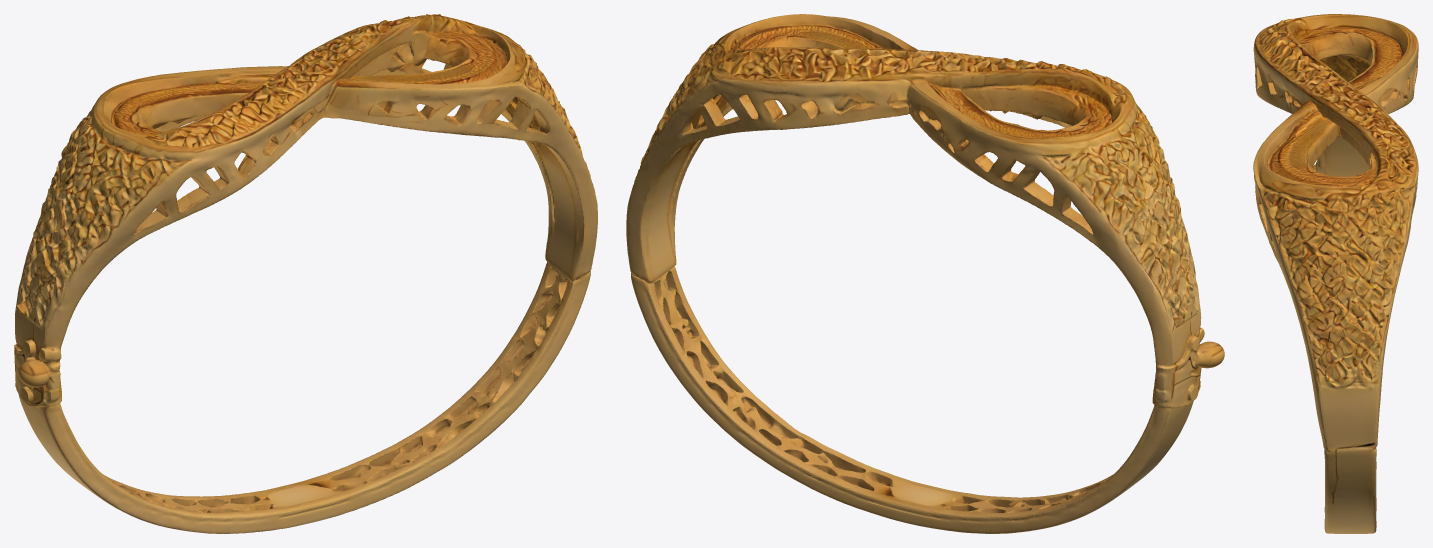
The model's file is gold-infinity-bangle.glb.
The picture shows the model from 3 angles, left to right: view 1: azimuth 30°, elevation 25°; view 2: azimuth 150°, elevation 25°; view 3: azimuth 270°, elevation 25°; orthographic projection. The views are drawn at different scales.
Visible parts, largest first — view 1: model; view 2: model; view 3: model.
Boxes of the visible parts, left/top/right/bottom form: model: left=14, top=14, right=597, bottom=533; model: left=626, top=14, right=1224, bottom=533; model: left=1253, top=14, right=1418, bottom=533.
Size of the model in its own units: 1.76 by 1.33 by 0.4851.
1 material, 1 textured.
